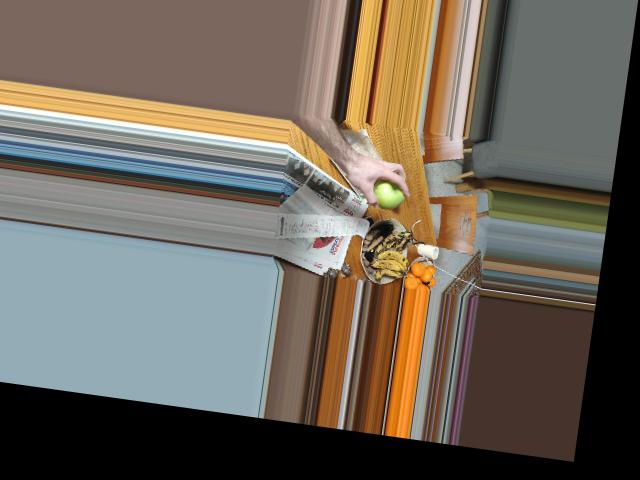apple: (369, 173, 410, 212)
